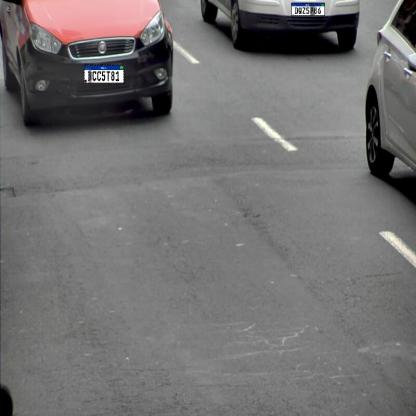PlacaM: (84, 64, 124, 84), (291, 3, 325, 16)
